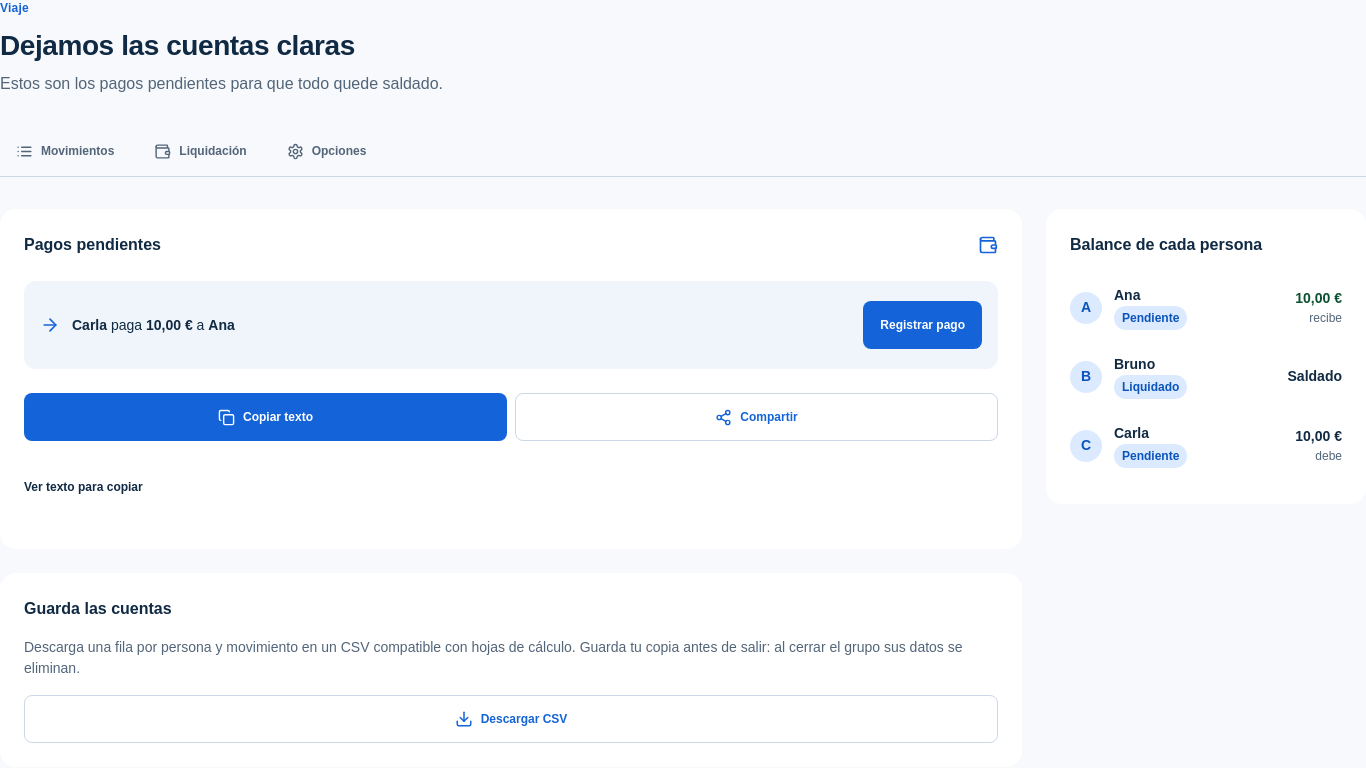
Scenario: settlement page › derives member status from balances and records a payment as a contribution
The image size is (1366, 768).
Expected: the text "Pendiente" is shown 2 times, [1114, 306, 1187, 330]; [1114, 444, 1187, 468]
Expected: the text "Liquidado" is shown, [1114, 375, 1187, 399]
Click the button with aria-label "Registrar pago de Carla a Ana": (923, 325) [863, 301, 982, 349]
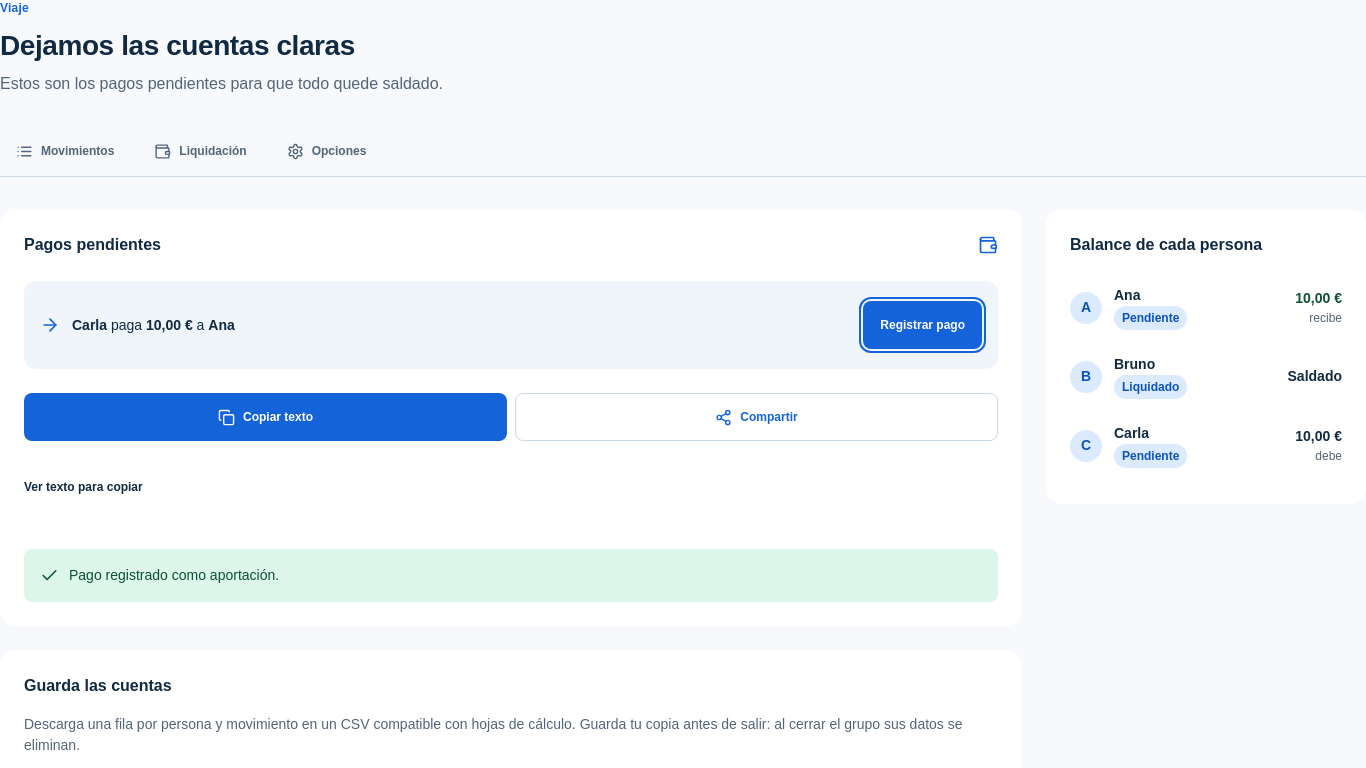
Result: the message reads "Pago registrado como aportación." at [69, 567, 279, 583]
